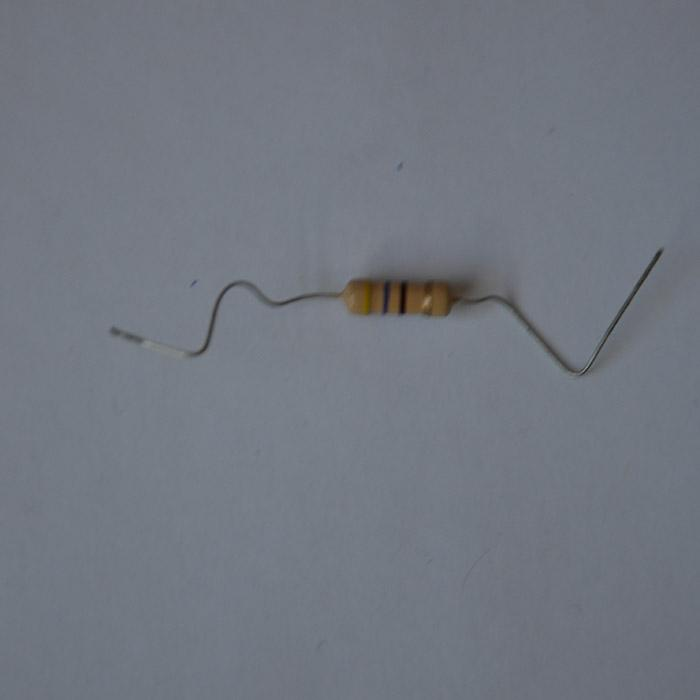resistor: (340, 278, 455, 316)
